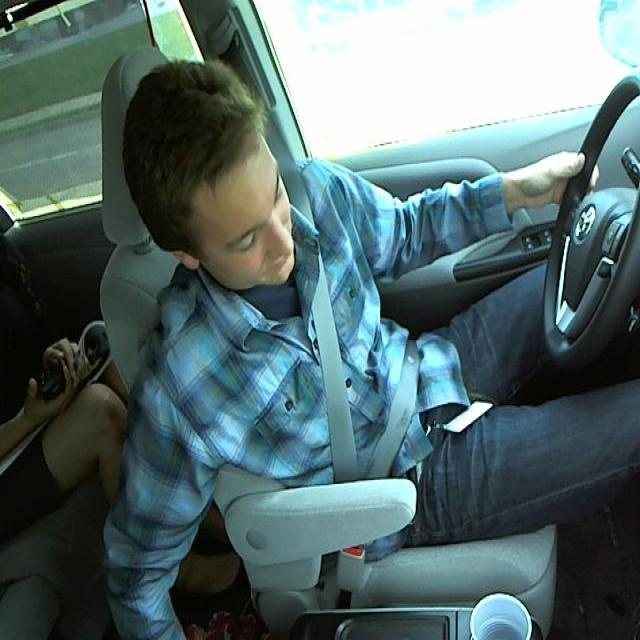seatbelt: (293, 212, 433, 472)
